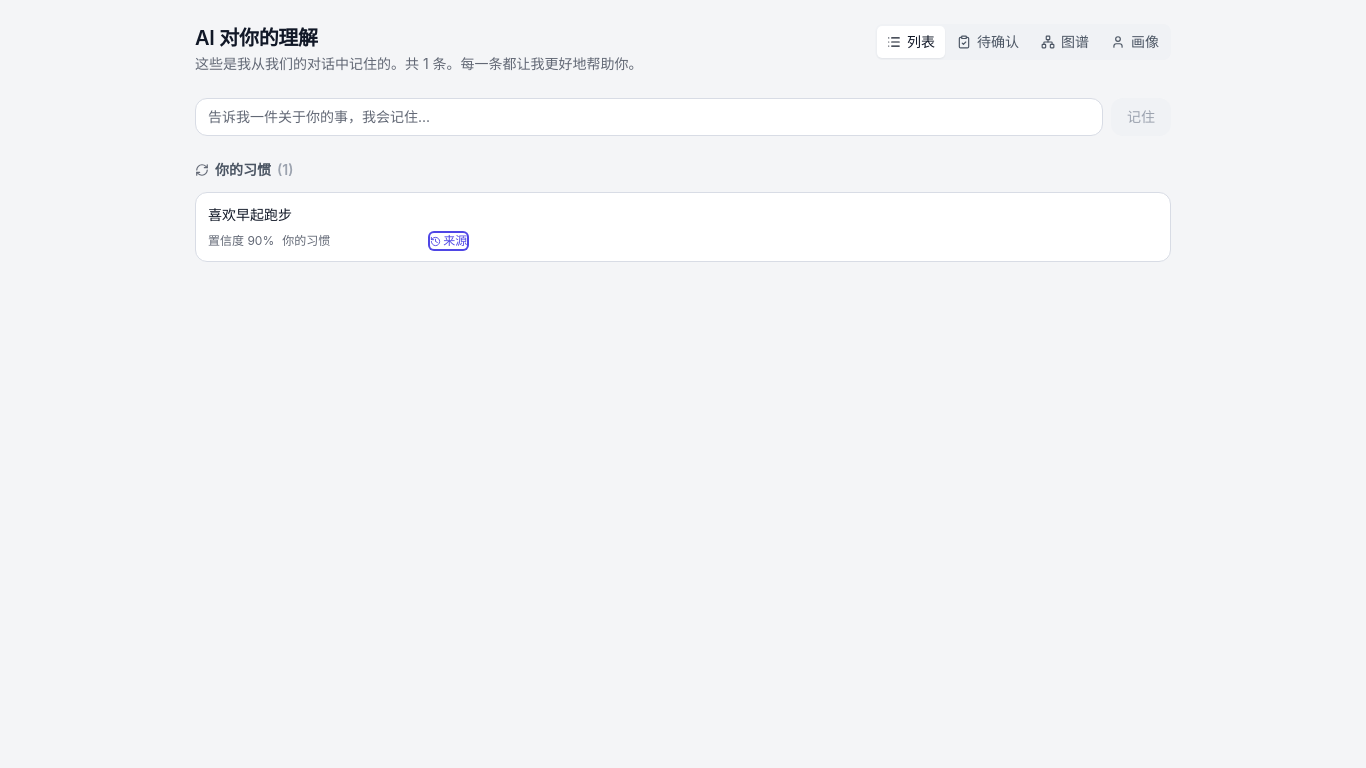
MemoriesPage › returns focus to the source button when the provenance dialog closes
The image size is (1366, 768).
Check: the text "喜欢早起跑步" is shown, box [208,206,292,223]
Click the button with aria-label "来源：".
click(449, 241)  # box [430,233,467,249]
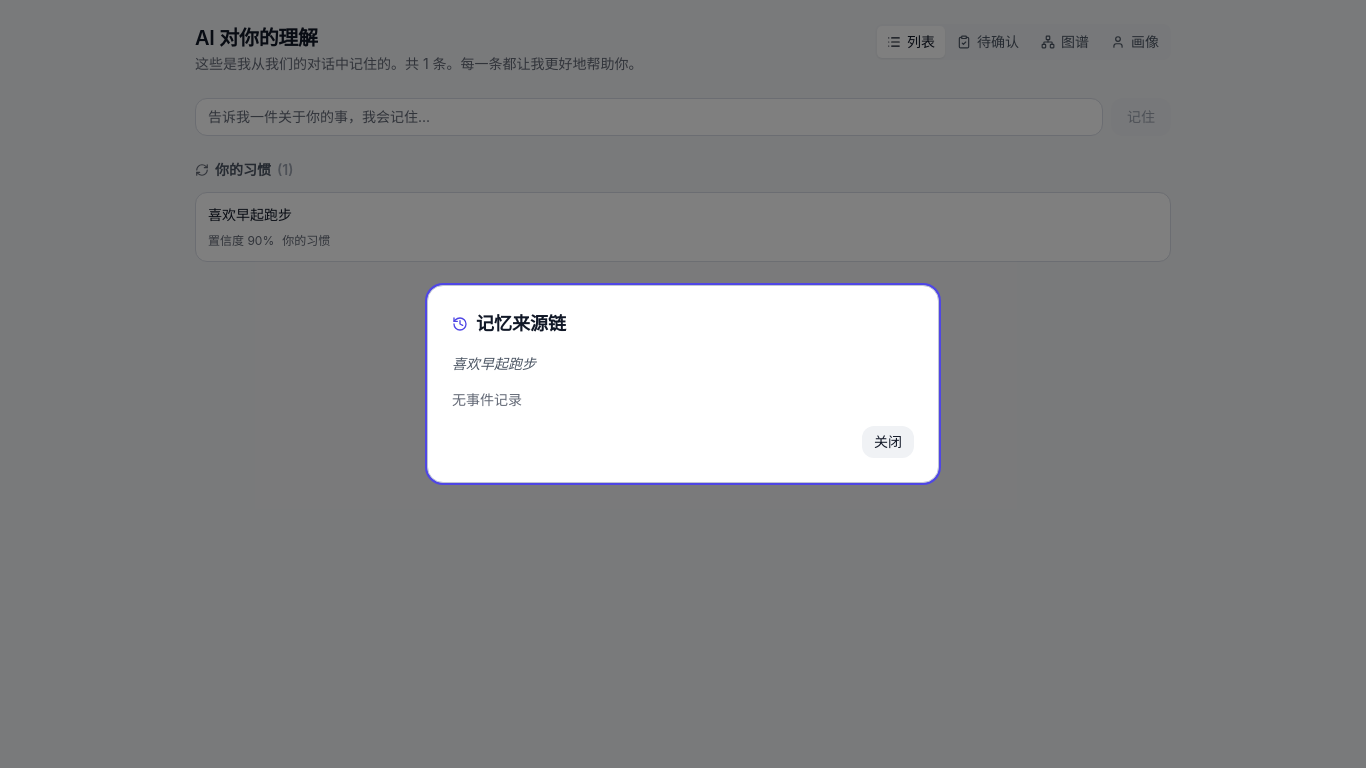
Press Escape
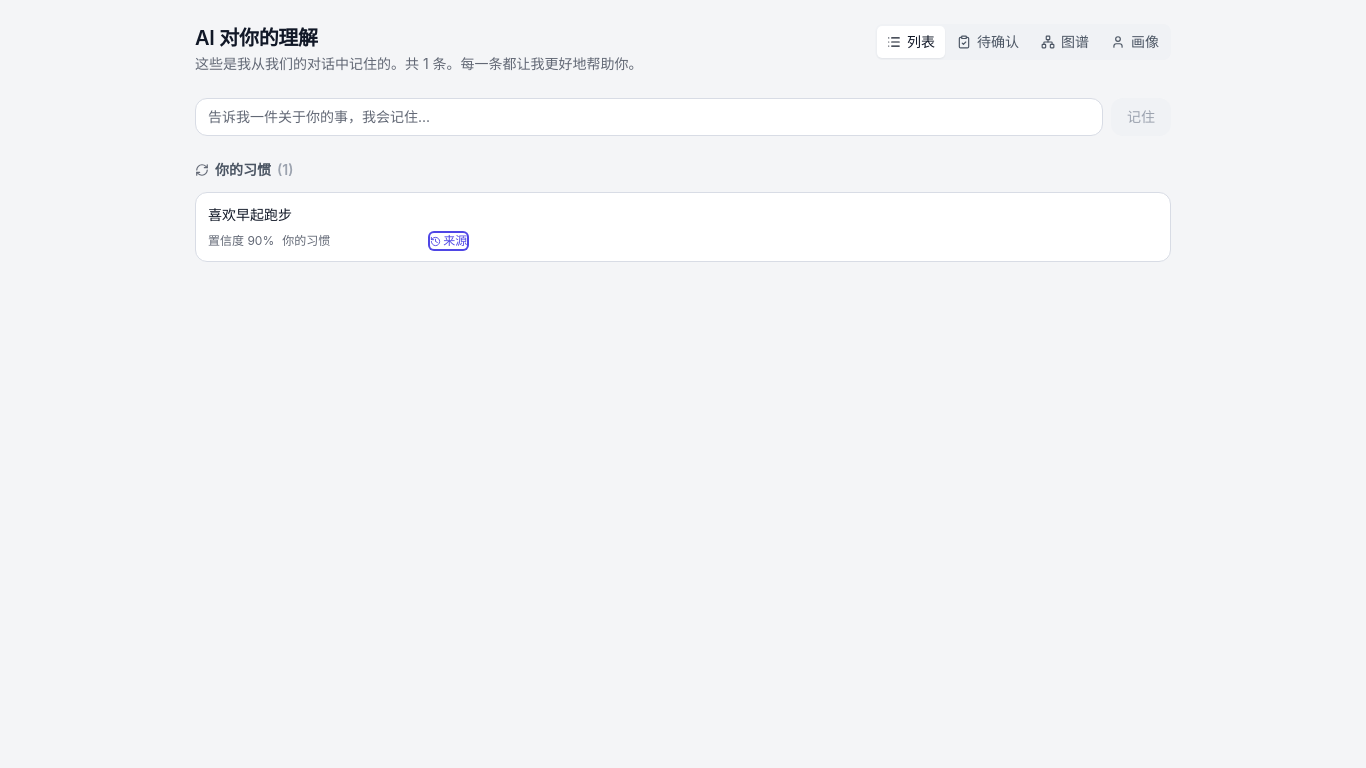
Check: the heading "记忆来源链" is gone
